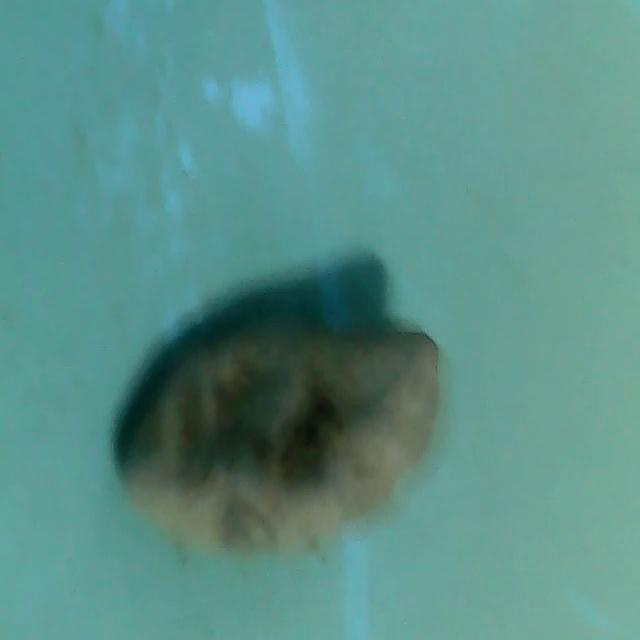rock: (111, 300, 451, 567)
